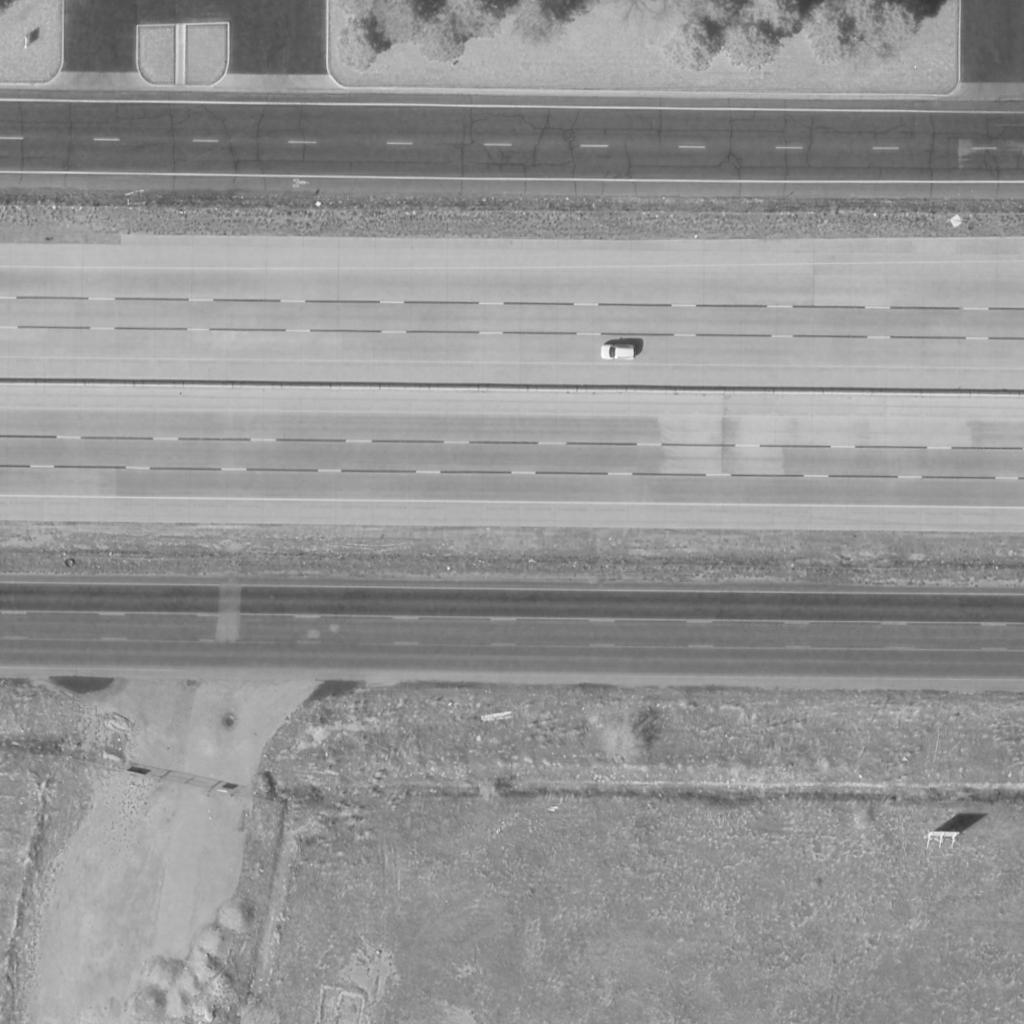vehicle: (599, 344, 637, 362)
